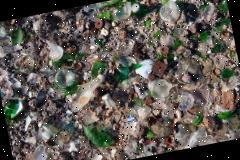glass: (26, 59, 125, 160)
